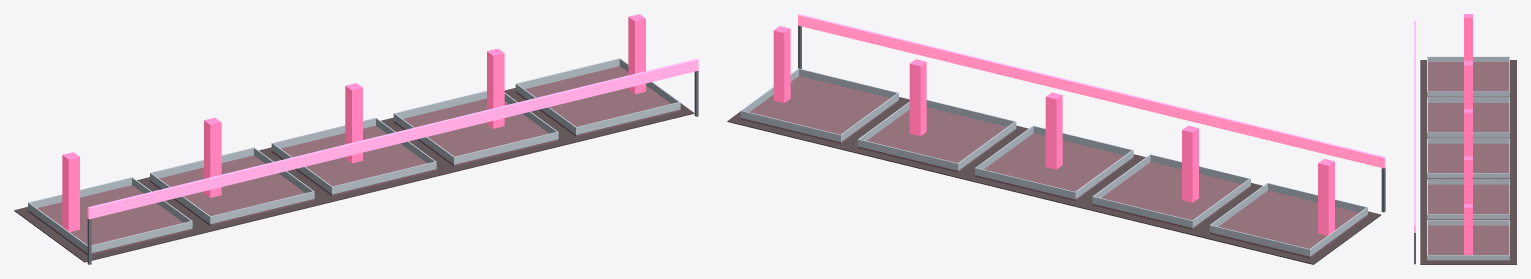
The model's file is pack-basic-life-skills-self-reliance.glb.
3 renders of one model, left to right at view 1: azimuth 30°, elevation 25°; view 2: azimuth 150°, elevation 25°; view 3: azimuth 270°, elevation 25°, orthographic. The views are drawn at different scales.
Visible parts, largest first — view 1: Basic Life Skills & Self-Reliance; view 2: Basic Life Skills & Self-Reliance; view 3: Basic Life Skills & Self-Reliance.
Boxes of the visible parts, <box> form: Basic Life Skills & Self-Reliance: <box>14,14,698,264</box>; Basic Life Skills & Self-Reliance: <box>727,14,1385,264</box>; Basic Life Skills & Self-Reliance: <box>1414,14,1516,264</box>.
Size of the model in its own units: 70 by 8.3 by 14.9.
